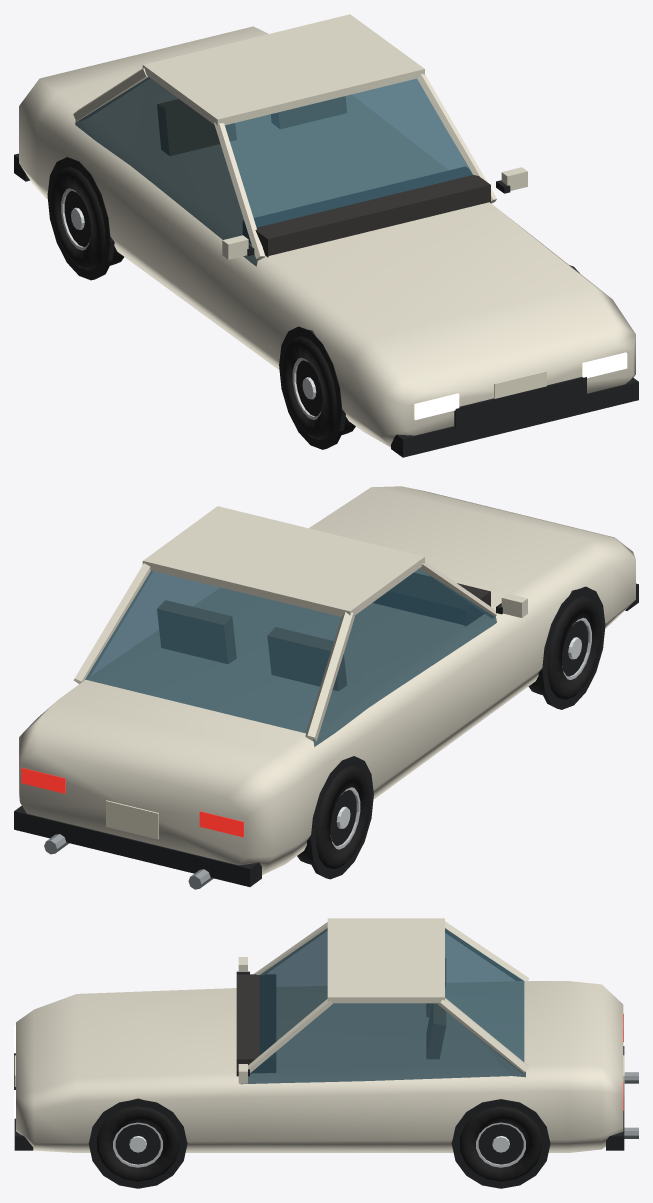
The model's file is birch-sedan.glb.
3 views of the same model, one above another, from view 1: azimuth 30°, elevation 25°; view 2: azimuth 150°, elevation 25°; view 3: azimuth 270°, elevation 25° (orthographic). The views are drawn at different scales.
Visible parts, largest first — view 1: body, wheel_FR, wheel_RR, plate_F, headlight_R, headlight_L; view 2: body, wheel_RR, wheel_FR, plate_R, taillight_R, taillight_L; view 3: body, wheel_FL, wheel_RL.
Boxes of the visible parts, x1=… form: body: x1=14, y1=14, x2=638, y2=457; wheel_FR: x1=282, y1=336, x2=355, y2=439; wheel_RR: x1=51, y1=167, x2=123, y2=270; plate_F: x1=494, y1=371, x2=546, y2=398; headlight_R: x1=414, y1=393, x2=459, y2=419; headlight_L: x1=582, y1=352, x2=627, y2=378; body: x1=14, y1=486, x2=638, y2=886; wheel_RR: x1=297, y1=766, x2=370, y2=869; wheel_FR: x1=528, y1=596, x2=601, y2=699; plate_R: x1=106, y1=800, x2=158, y2=839; taillight_R: x1=199, y1=811, x2=243, y2=837; taillight_L: x1=21, y1=768, x2=65, y2=793; body: x1=14, y1=918, x2=624, y2=1188; wheel_FL: x1=97, y1=1106, x2=179, y2=1181; wheel_RL: x1=460, y1=1106, x2=542, y2=1181.
Bounding box in the file's own units: 2.05 × 1.51 × 4.74.
